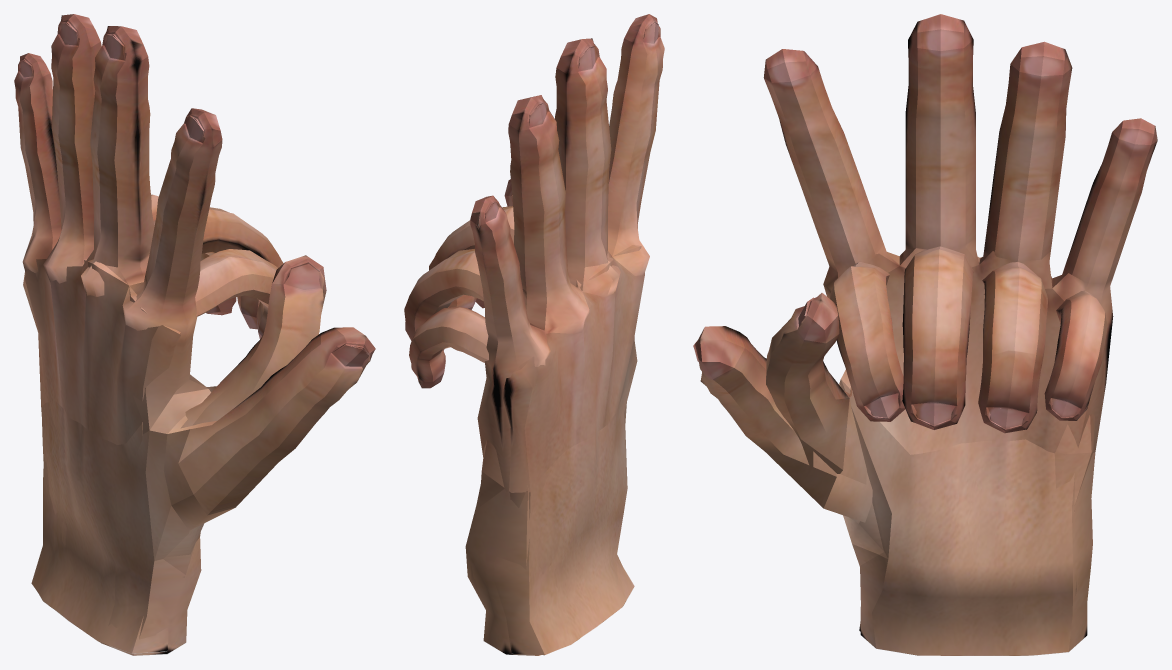
Rendered from Hand_FBX_new_rotated.fbx.
3 views of the same model, side by side, from view 1: azimuth 30°, elevation 25°; view 2: azimuth 150°, elevation 25°; view 3: azimuth 270°, elevation 25° (orthographic). The views are drawn at different scales.
Parts seen in each view (by area): view 1: hands:openHand, hands:fist; view 2: hands:openHand, hands:fist; view 3: hands:openHand, hands:fist.
Part boxes in pixels (x1,y1,x2,y2): hands:openHand: (14, 14, 375, 655); hands:fist: (23, 194, 326, 653); hands:openHand: (465, 14, 664, 655); hands:fist: (404, 179, 644, 655); hands:openHand: (693, 14, 1157, 655); hands:fist: (766, 246, 1106, 631).
Size of the model in its own units: 6.33 by 18.53 by 12.62.
1 material, 1 textured.
